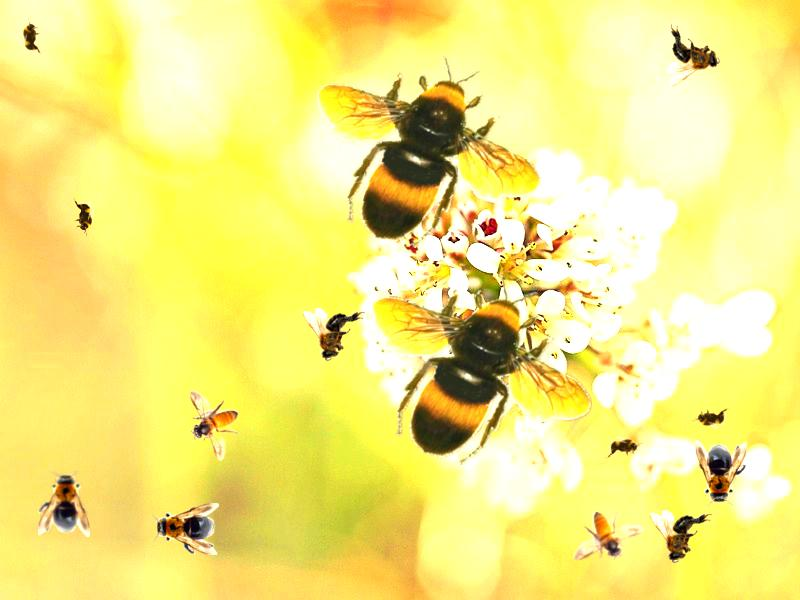Bee: (315, 50, 545, 253), (372, 274, 592, 465), (573, 511, 644, 561), (189, 390, 239, 461), (695, 440, 747, 508), (151, 503, 219, 555), (38, 469, 90, 537), (667, 24, 720, 86), (303, 308, 365, 361), (650, 510, 712, 563), (603, 435, 645, 459), (691, 407, 731, 429), (73, 197, 95, 237), (20, 17, 42, 57)
